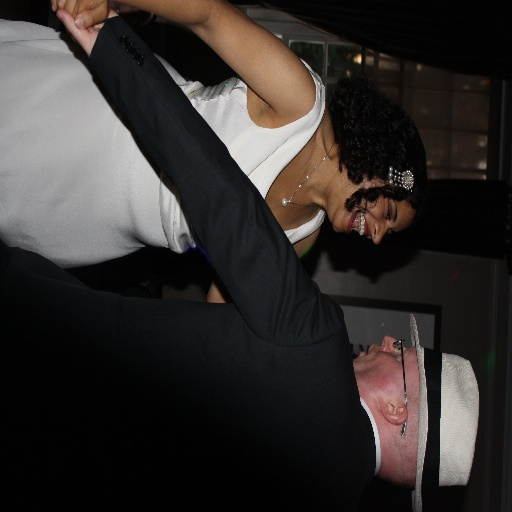hand: (54, 8, 119, 60), (50, 0, 107, 30)
